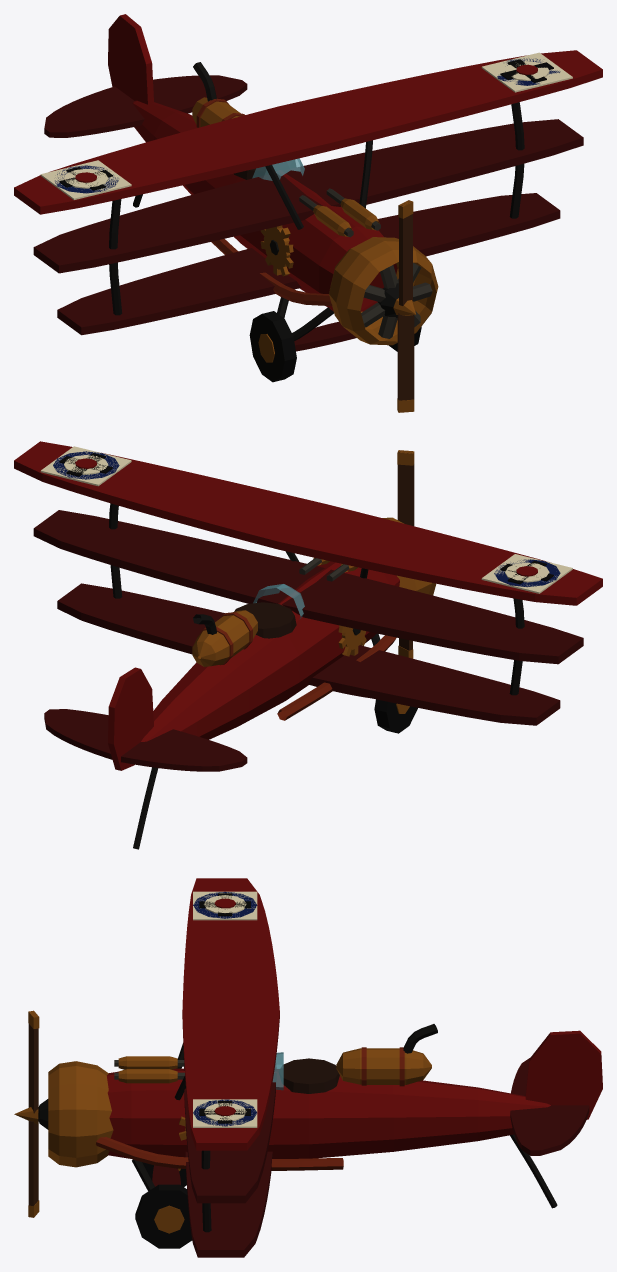
File: Halcon_de_Laton_Curva.obj
The picture shows the model from 3 angles, top to bottom: view 1: azimuth 30°, elevation 25°; view 2: azimuth 150°, elevation 25°; view 3: azimuth 270°, elevation 25°; orthographic projection. The views are drawn at different scales.
Visible parts, largest first — view 1: Cuerpo, Helice_1, Insignia_Cruz_N, Insignia_Escarapela; view 2: Cuerpo, Insignia_Escarapela, Insignia_Cruz_N, Helice_1; view 3: Cuerpo, Insignia_Escarapela, Helice_1, Insignia_Cruz_N.
Boxes of the visible parts, x1,y1,x2,y2 form: Cuerpo: (14, 14, 602, 382); Helice_1: (393, 200, 415, 412); Insignia_Cruz_N: (40, 52, 572, 199); Insignia_Escarapela: (55, 58, 560, 193); Cuerpo: (14, 441, 602, 849); Insignia_Escarapela: (53, 451, 560, 587); Insignia_Cruz_N: (40, 446, 572, 593); Helice_1: (397, 450, 414, 658); Cuerpo: (38, 878, 602, 1257); Insignia_Escarapela: (193, 892, 257, 1126); Helice_1: (14, 1010, 39, 1217); Insignia_Cruz_N: (193, 891, 257, 1127).
Bounding box in the file's own units: 7.4 × 2.73 × 6.95.
